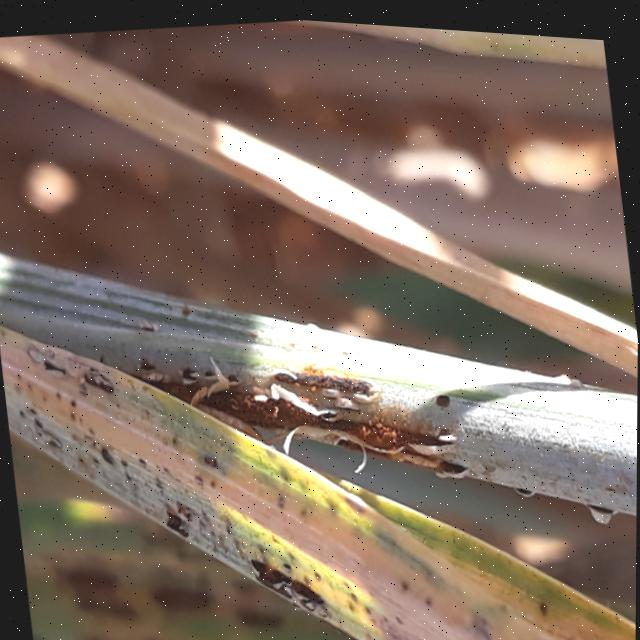black_stem_rust: (0, 92, 639, 640)
